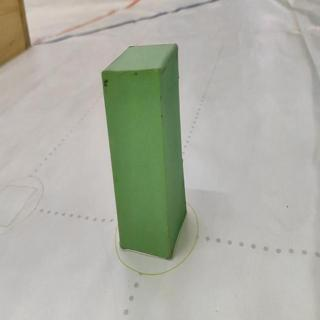greenbox: (101, 42, 185, 260)
